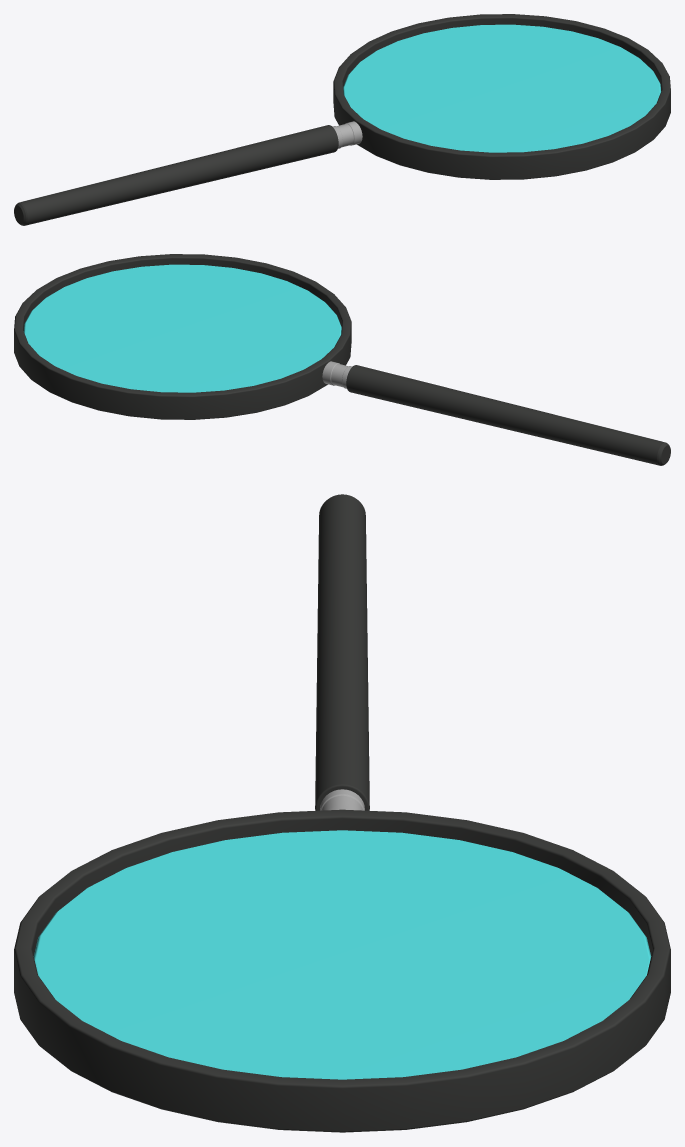
File: Lupa.fbx
3 renders of one model, top to bottom at view 1: azimuth 30°, elevation 25°; view 2: azimuth 150°, elevation 25°; view 3: azimuth 270°, elevation 25°, orthographic. The views are drawn at different scales.
Parts seen in each view (by area): view 1: Glass, Lupa; view 2: Glass, Lupa; view 3: Glass, Lupa.
Part boxes in pixels (left/top/right/bottom): Glass: left=343, top=24, right=661, bottom=152; Lupa: left=14, top=14, right=670, bottom=225; Glass: left=23, top=264, right=341, bottom=392; Lupa: left=14, top=254, right=670, bottom=465; Glass: left=33, top=830, right=651, bottom=1079; Lupa: left=14, top=494, right=670, bottom=1132.
Bounding box in the file's own units: 38.86 × 1.51 × 18.07.
